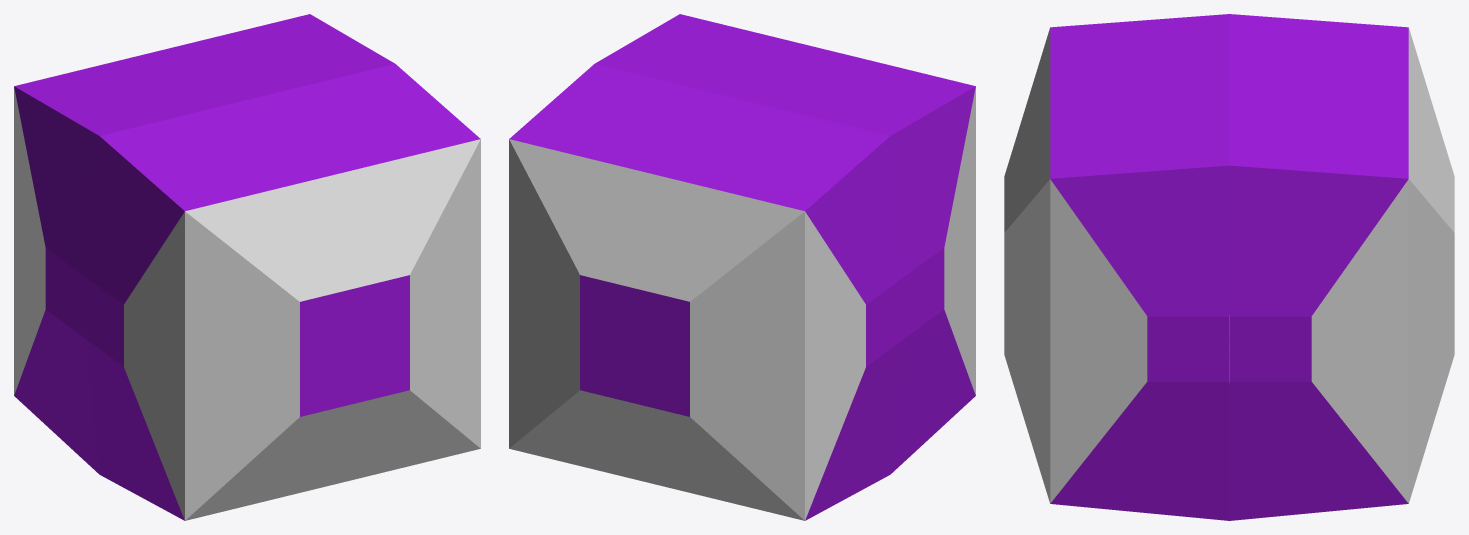
File: DragonBody.fbx
The picture shows the model from 3 angles, left to right: view 1: azimuth 30°, elevation 25°; view 2: azimuth 150°, elevation 25°; view 3: azimuth 270°, elevation 25°; orthographic projection. The views are drawn at different scales.
Parts seen in each view (by area): view 1: Cube; view 2: Cube; view 3: Cube.
Part boxes in pixels (x1,y1,x2,y2): Cube: (14,14,480,520); Cube: (509,14,975,520); Cube: (1004,14,1454,520).
Bounding box in the file's own units: 220 × 219 × 251.
